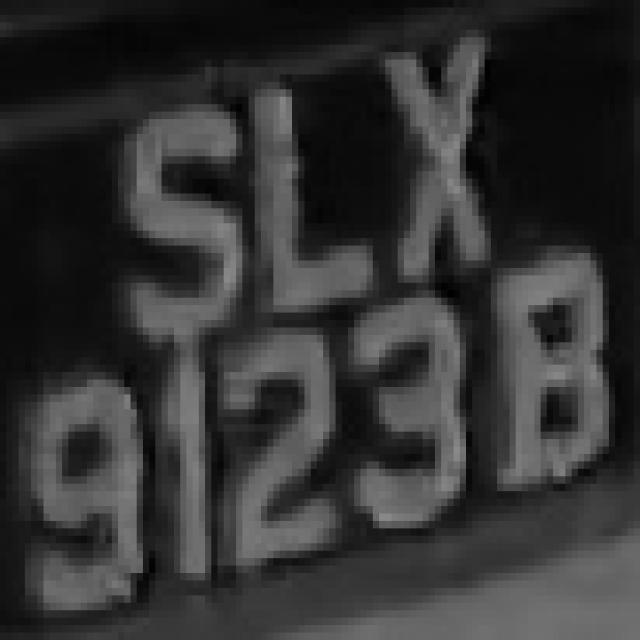1: (161, 358, 230, 596)
2: (218, 328, 354, 580)
3: (354, 275, 466, 573)
9: (6, 364, 149, 640)
B: (503, 260, 628, 521)
L: (230, 67, 367, 327)
S: (106, 74, 236, 364)
X: (348, 30, 497, 283)
